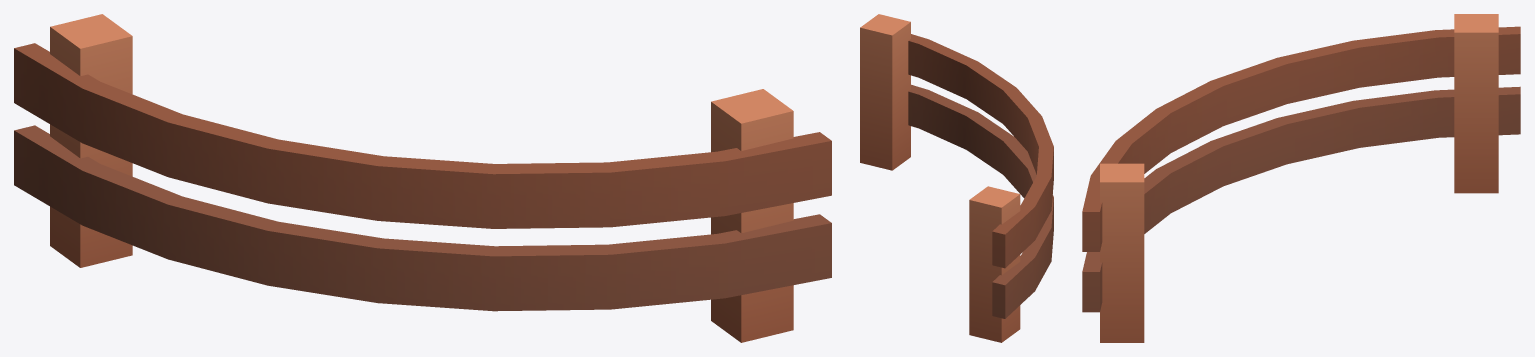
The model's file is fence-corner-curved.glb.
The picture shows the model from 3 angles, left to right: view 1: azimuth 30°, elevation 25°; view 2: azimuth 150°, elevation 25°; view 3: azimuth 270°, elevation 25°; orthographic projection. The views are drawn at different scales.
Parts seen in each view (by area): view 1: fence-corner-curved; view 2: fence-corner-curved; view 3: fence-corner-curved.
Boxes of the visible parts, <box> form: fence-corner-curved: <box>14,14,831,342</box>; fence-corner-curved: <box>860,14,1053,342</box>; fence-corner-curved: <box>1082,14,1520,342</box>.
Bounding box in the file's own units: 0.99 × 0.4 × 0.99.
1 material, 1 textured.
